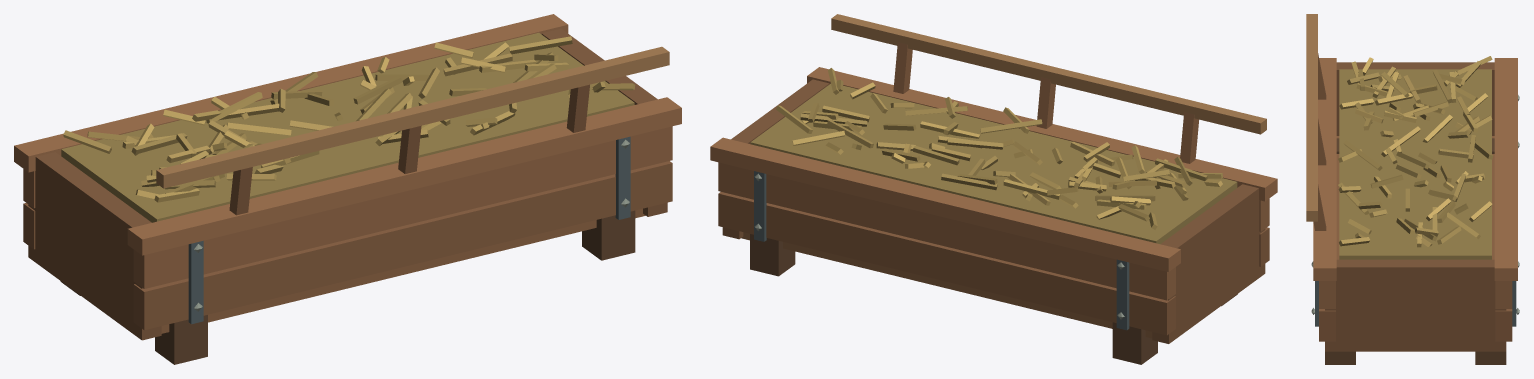
The model's file is hay_trough.glb.
3 views of the same model, side by side, from view 1: azimuth 30°, elevation 25°; view 2: azimuth 150°, elevation 25°; view 3: azimuth 270°, elevation 25° (orthographic). The views are drawn at different scales.
Visible parts, largest first — view 1: geometry, hay; view 2: geometry, hay; view 3: geometry, hay.
Boxes of the visible parts, bbox=[...] form: geometry: bbox=[14, 14, 681, 364]; hay: bbox=[61, 32, 635, 222]; geometry: bbox=[710, 14, 1277, 364]; hay: bbox=[750, 68, 1237, 244]; geometry: bbox=[1306, 14, 1519, 364]; hay: bbox=[1338, 56, 1493, 259].
Bounding box in the file's own units: 1.92 × 0.6925 × 0.8243.
